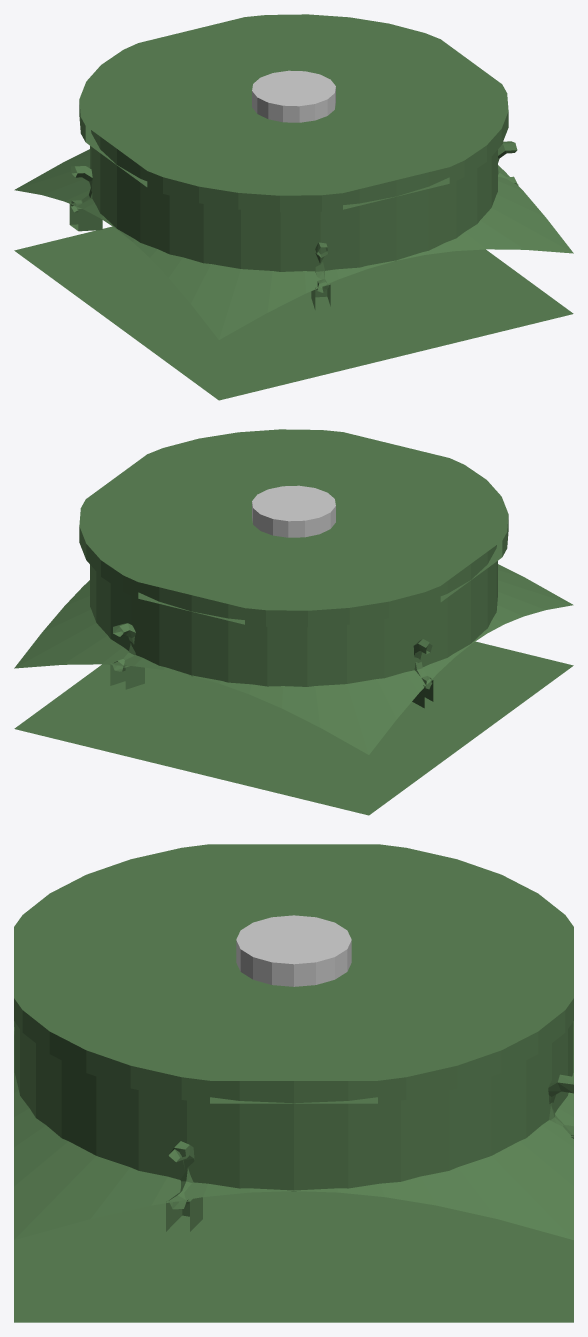
Rendered from cell_67.obj.
3 views of the same model, one above another, from view 1: azimuth 30°, elevation 25°; view 2: azimuth 150°, elevation 25°; view 3: azimuth 270°, elevation 25° (orthographic). The views are drawn at different scales.
Bounding box in the file's own units: 1 × 0.5215 × 1.
